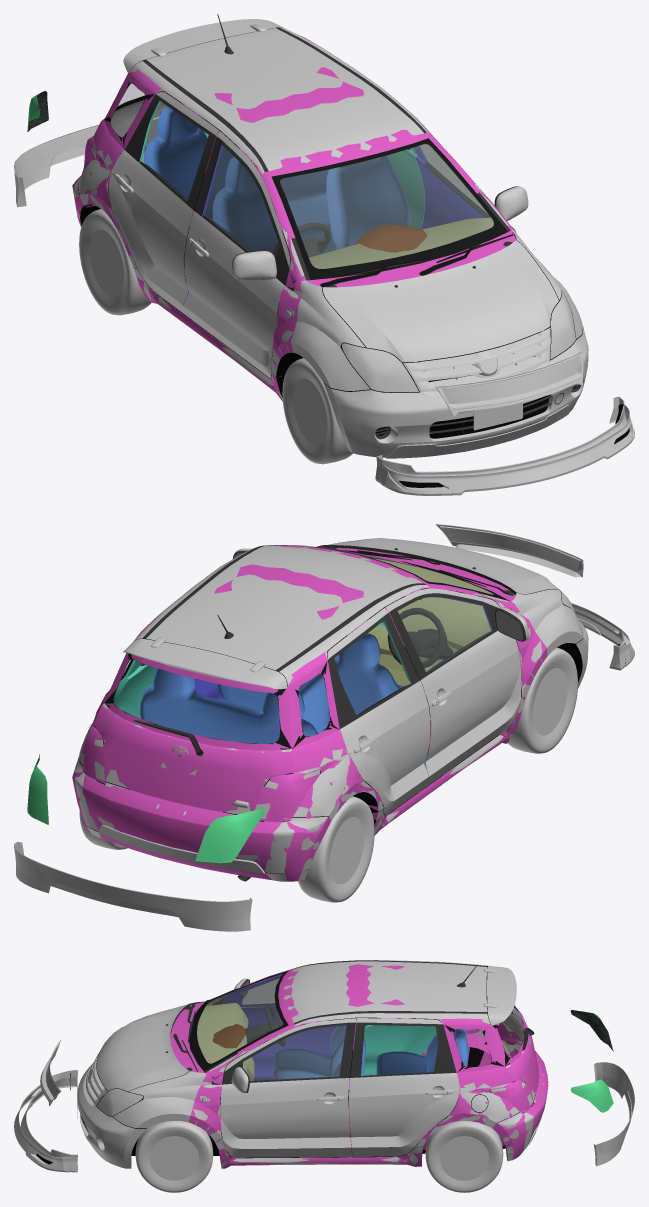
3 views of the same model, one above another, from view 1: azimuth 30°, elevation 25°; view 2: azimuth 150°, elevation 25°; view 3: azimuth 270°, elevation 25° (orthographic). The views are drawn at different scales.
Visible parts, largest first — view 1: top, top_in, R_door, Seat, R_door02, Skirt_front_B, Grill02, Grill_default, L_door, Tube05, Tube06, Console (+11 smaller); view 2: top, top_in, R_door, R_door02, Seat, Skirt_rear, Console, spoiler_rear_default, Tube05, light, Grill02, Tube06 (+7 smaller); view 3: top, top_in, L_door, L_door02, Seat, R_door, Tube03, Tube04, R_door02, Console, Core04, Core03 (+10 smaller).
Part boxes in pixels (x1,y1,x2,y2): top: (73,27,588,458); top_in: (72,34,516,401); R_door: (183,131,289,378); Seat: (144,106,410,253); R_door02: (108,92,218,319); Skirt_front_B: (380,404,634,495); Grill02: (435,351,583,416); Grill_default: (403,327,550,392); L_door: (402,105,490,229); Tube05: (79,209,151,315); Tube06: (282,358,352,464); Console: (309,217,493,268); top: (74,538,588,881); top_in: (72,545,547,881); R_door: (385,588,521,791); R_door02: (327,607,430,815); Seat: (140,633,403,743); Skirt_rear: (14,842,252,931); Console: (337,558,521,732); spoiler_rear_default: (123,637,287,689); Tube05: (298,796,374,902); light: (27,754,264,863); Grill02: (435,524,583,577); Tube06: (507,647,577,753); top: (77,960,544,1168); top_in: (170,964,548,1168); L_door: (220,1018,356,1157); L_door02: (349,1018,459,1156); Seat: (273,1025,468,1079); R_door: (223,974,336,1080); Tube03: (135,1121,213,1192); Tube04: (425,1121,503,1192); R_door02: (363,1025,436,1075); Console: (197,1003,254,1154); Core04: (439,1136,488,1180); Core03: (149,1136,198,1180).
Size of the model in its own units: 77.93 by 66.48 by 200.
